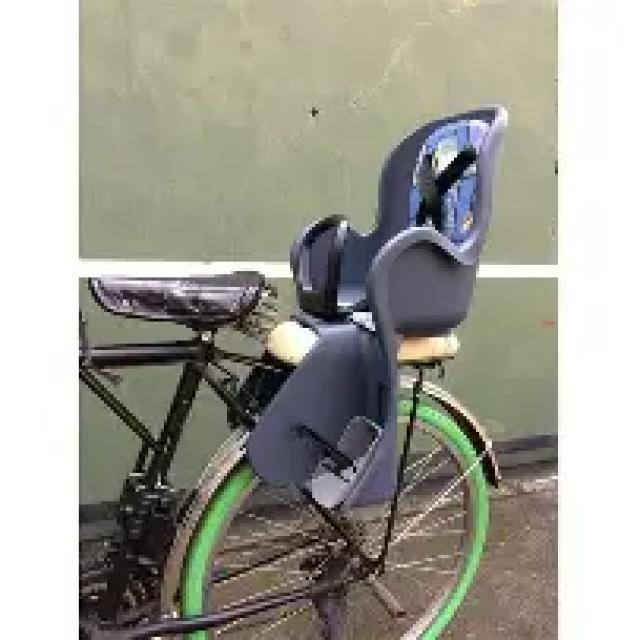childseat: (257, 102, 514, 531)
